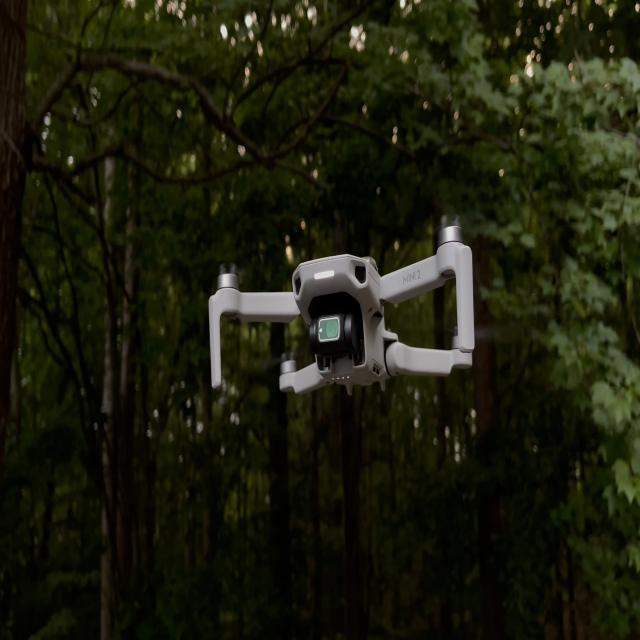Drone: (208, 226, 476, 395)
